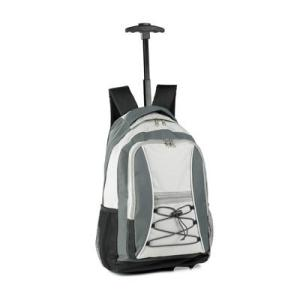luggage: (94, 22, 217, 276)
